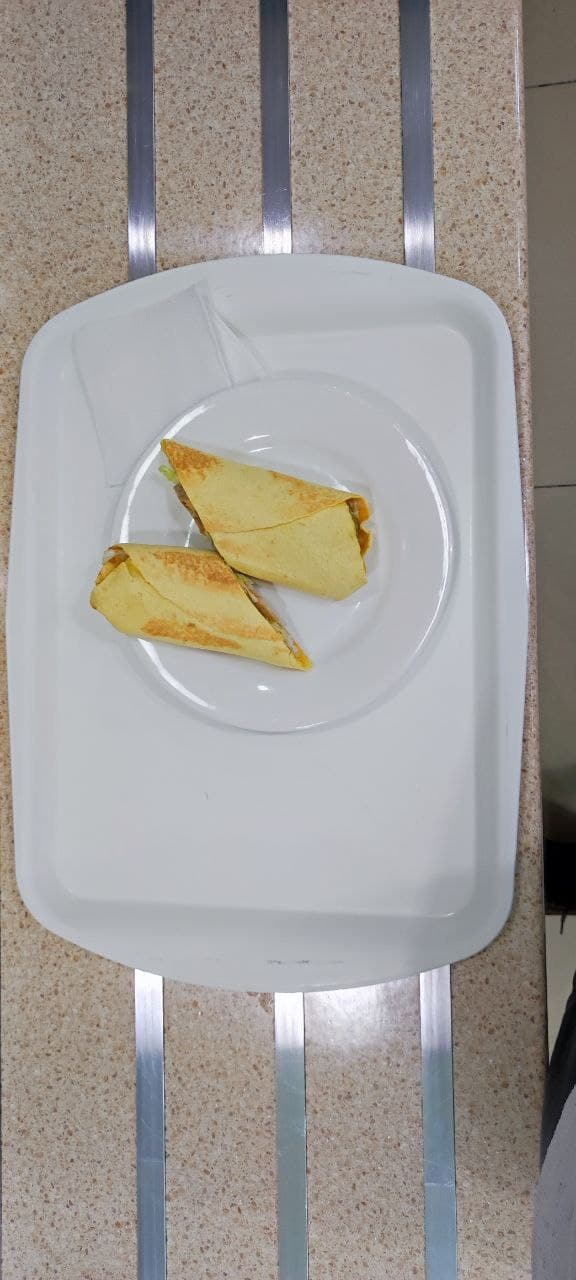Кесадилья с курицей: (87, 437, 374, 678)
Поднос: (4, 254, 532, 990)
Салфетки: (65, 282, 229, 390)
Тарелка: (112, 370, 453, 735)
